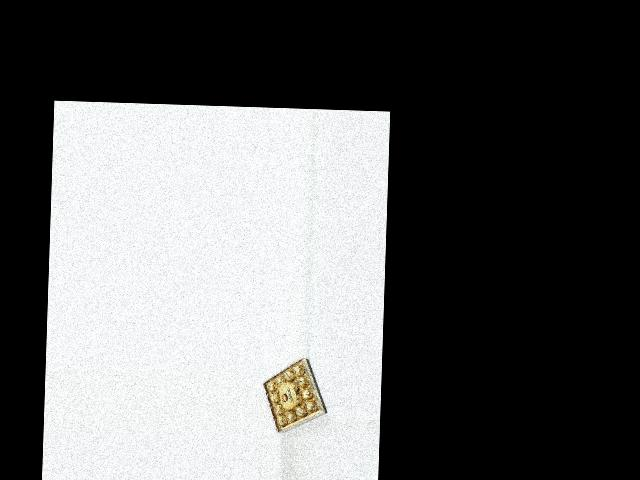chocolate: (259, 355, 330, 435)
